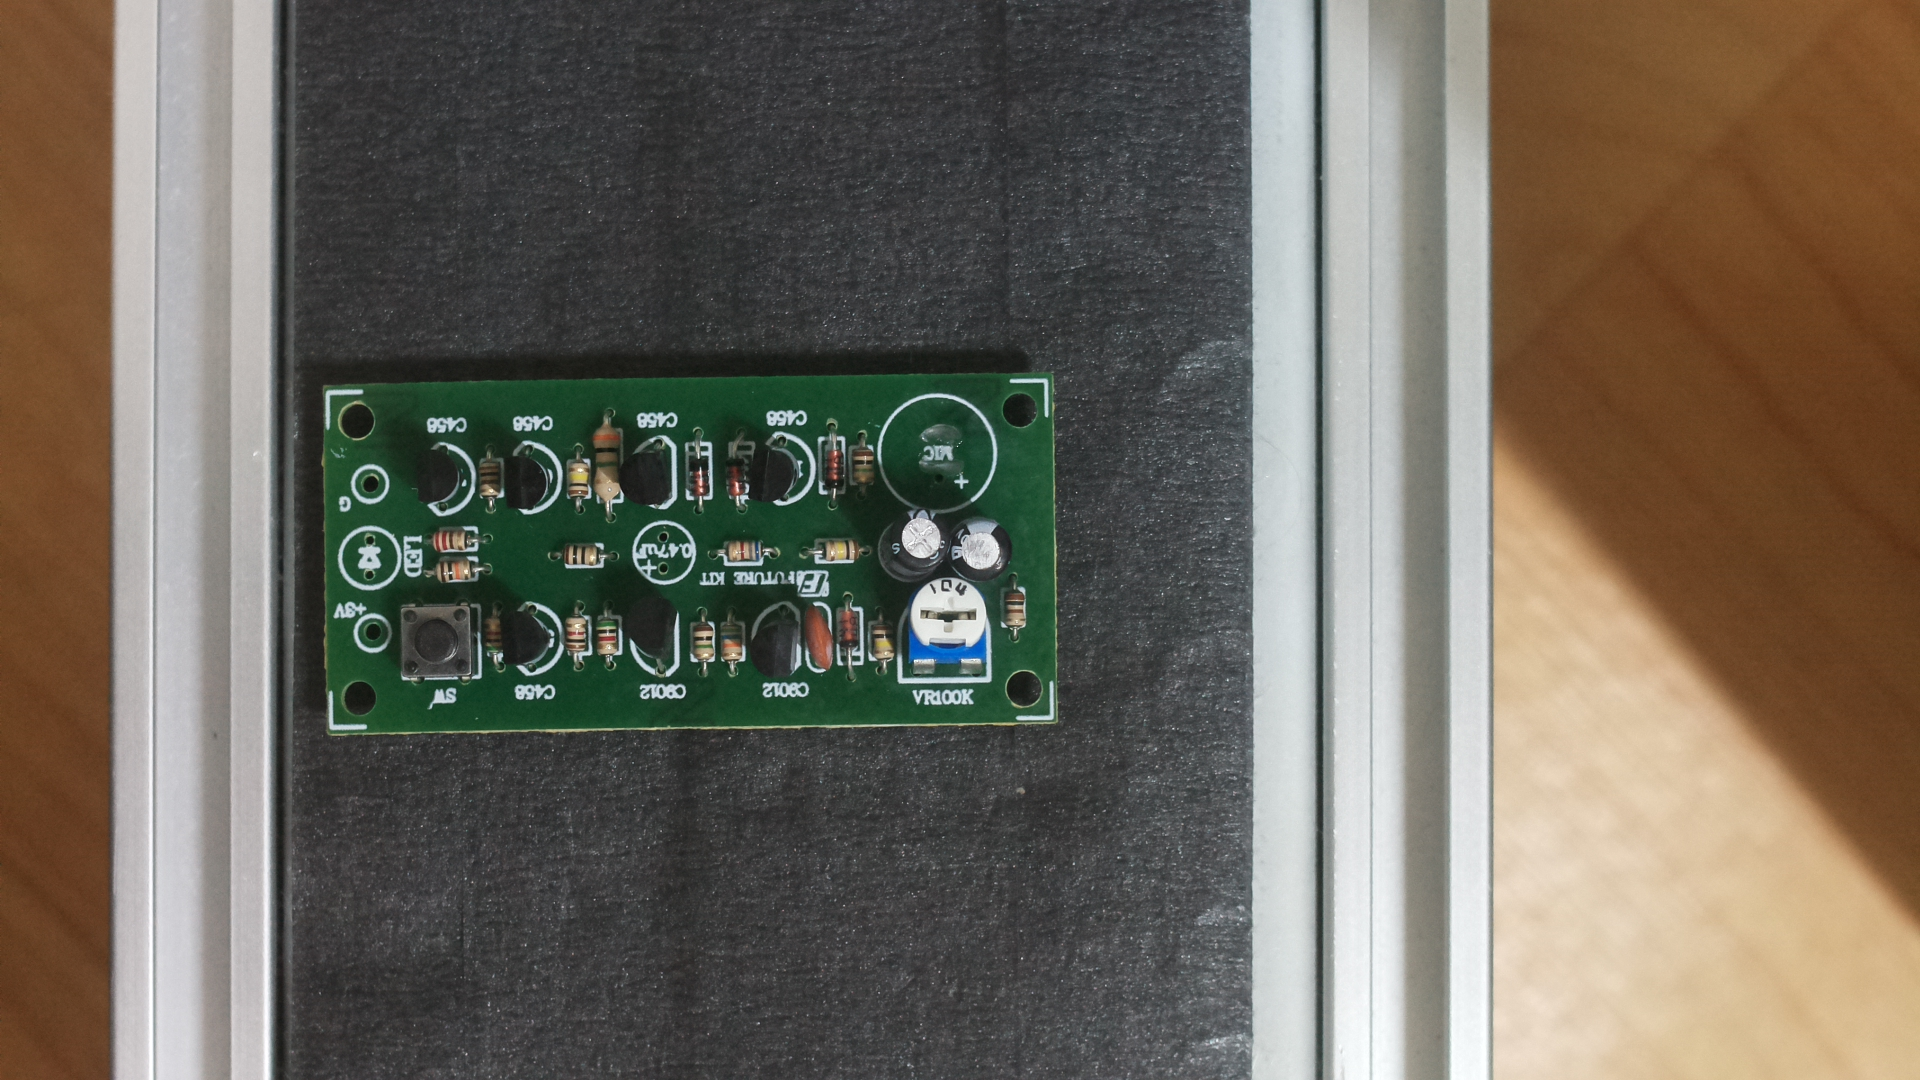A_Missing_part: (316, 373, 1076, 752)
